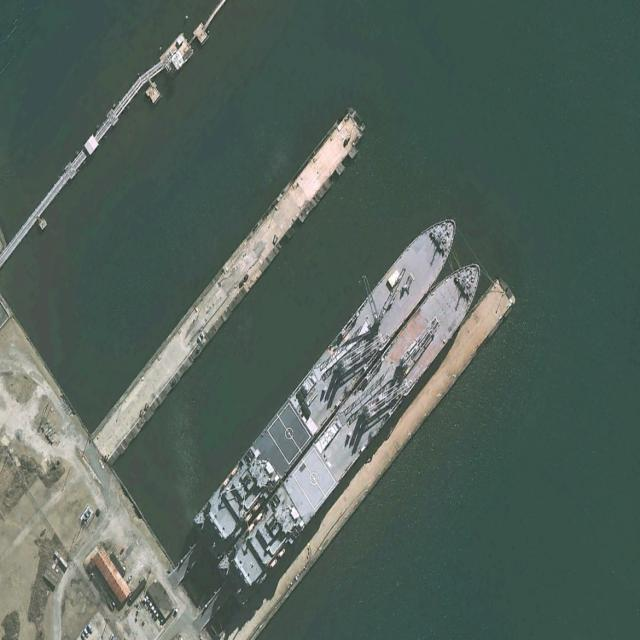Cargo: (187, 199, 469, 566), (214, 245, 493, 608)
